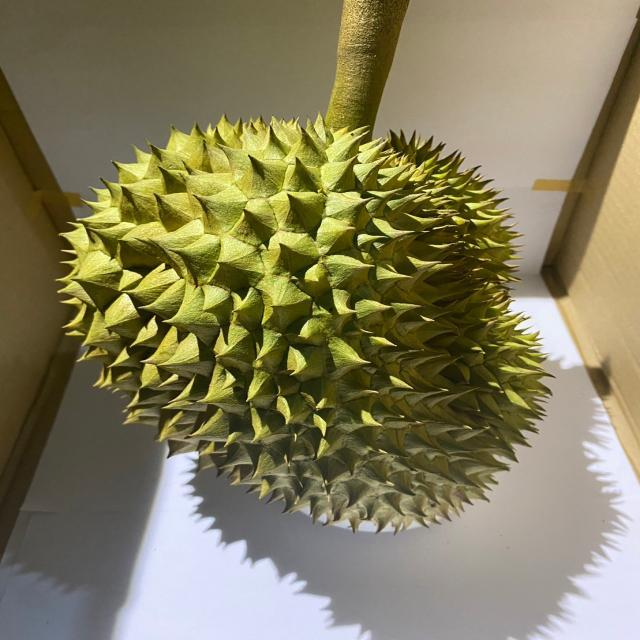immature: (53, 111, 553, 531)
